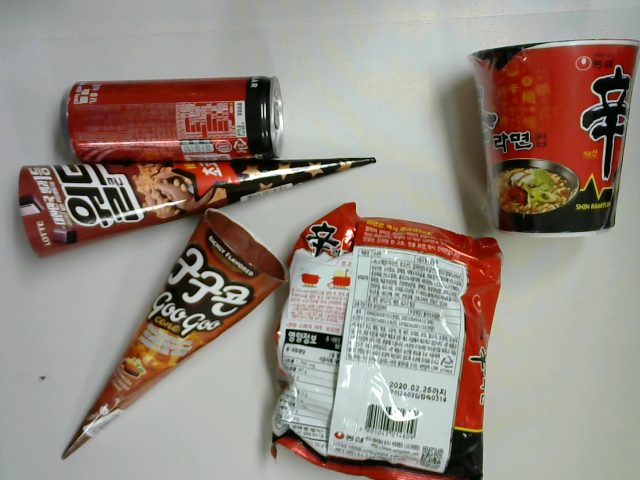Coca_Cola_Zero_Can_250ml: (57, 70, 296, 163)
GooGoo_Cone_CVS: (54, 202, 288, 466)
Sinramen: (265, 200, 502, 480)
Sinramen_small: (465, 35, 638, 242)
World_Cone_Choco: (8, 149, 386, 265)
